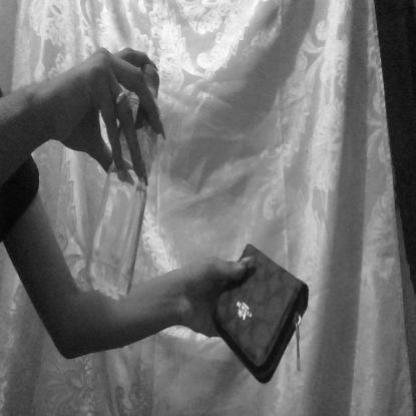Plastic Bottle: (88, 54, 174, 303)
